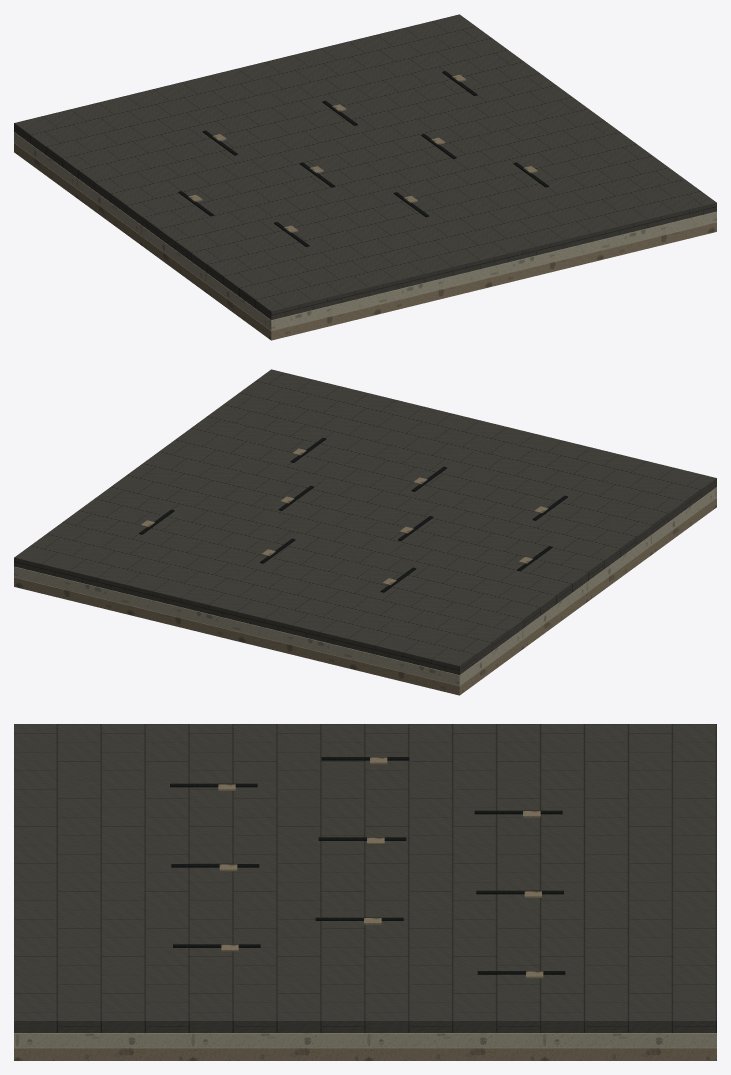
The model's file is layered_roof-light.obj.
The picture shows the model from 3 angles, top to bottom: view 1: azimuth 30°, elevation 25°; view 2: azimuth 150°, elevation 25°; view 3: azimuth 270°, elevation 25°; orthographic projection. The views are drawn at different scales.
Visible parts, largest first — view 1: layered_roof.Light; view 2: layered_roof.Light; view 3: layered_roof.Light.
Part boxes in pixels (x1=…): layered_roof.Light: x1=14, y1=14, x2=716, y2=340; layered_roof.Light: x1=14, y1=369, x2=716, y2=695; layered_roof.Light: x1=14, y1=724, x2=716, y2=1060.
Size of the model in its own units: 16 by 1.12 by 16.
4 materials, 4 textured.
